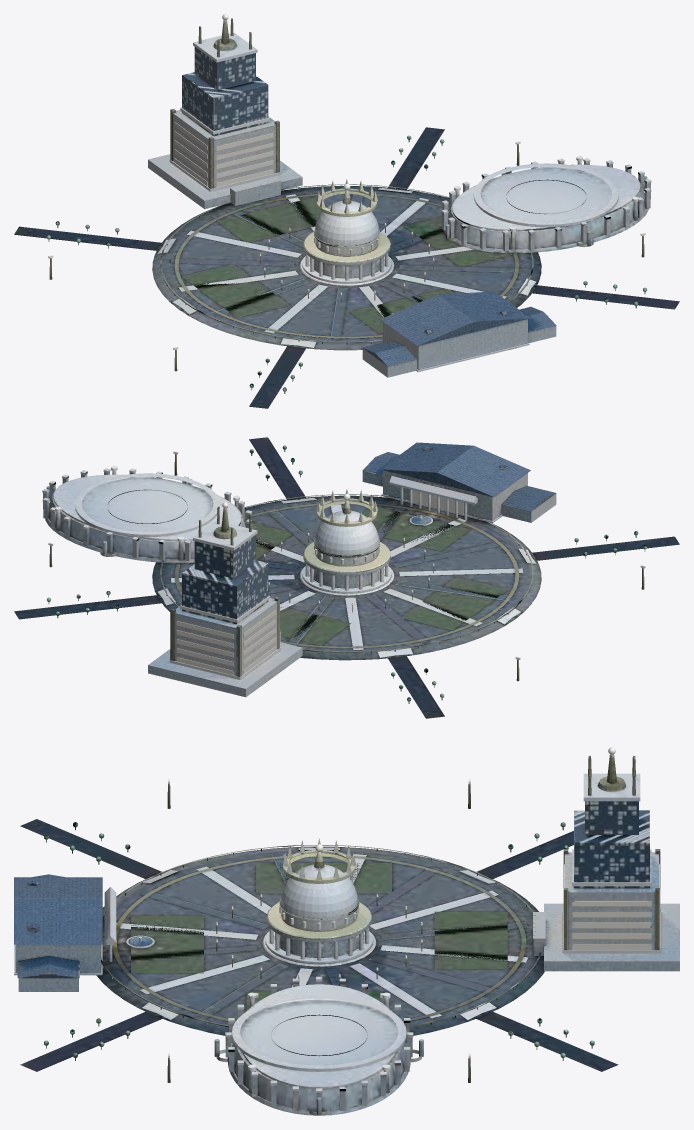
File: glory_crown_low.glb
3 views of the same model, one above another, from view 1: azimuth 30°, elevation 25°; view 2: azimuth 150°, elevation 25°; view 3: azimuth 270°, elevation 25° (orthographic). The views are drawn at different scales.
Parts seen in each view (by area): view 1: site_ground, props_tower, props_arena, props_club, props_main; view 2: site_ground, props_tower, props_arena, props_club, props_main, props_lights; view 3: site_ground, props_arena, props_tower, props_club, props_main, props_lights.
Part boxes in pixels (<box>): site_ground: <box>14,127,679,408</box>; props_tower: <box>148,14,302,209</box>; props_arena: <box>441,156,651,253</box>; props_club: <box>362,291,556,377</box>; props_main: <box>299,179,394,285</box>; site_ground: <box>14,437,679,718</box>; props_tower: <box>148,502,302,697</box>; props_arena: <box>42,466,252,563</box>; props_club: <box>362,442,556,525</box>; props_main: <box>299,489,394,595</box>; props_lights: <box>48,451,645,681</box>; site_ground: <box>20,819,618,1071</box>; props_arena: <box>214,976,423,1115</box>; props_tower: <box>533,747,679,971</box>; props_club: <box>14,874,154,991</box>; props_main: <box>262,838,376,966</box>; props_lights: <box>167,779,470,1082</box>.
Size of the model in its own units: 470 by 138 by 421.
6 materials, 6 textured.
